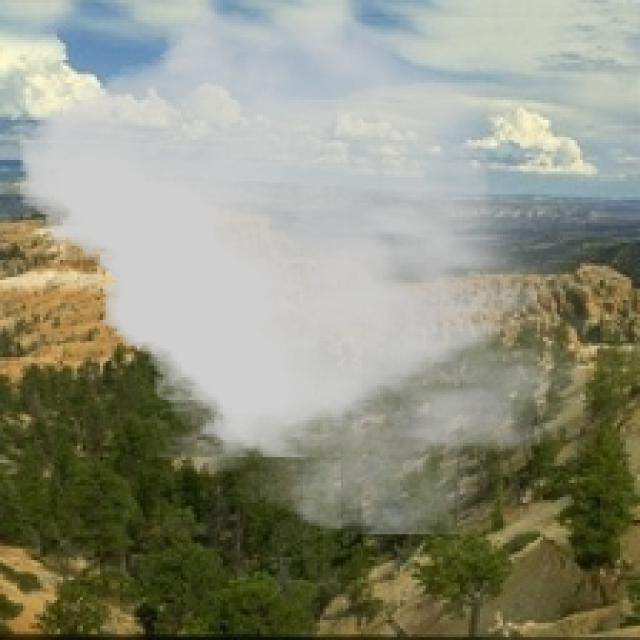smoke: (20, 0, 586, 535)
